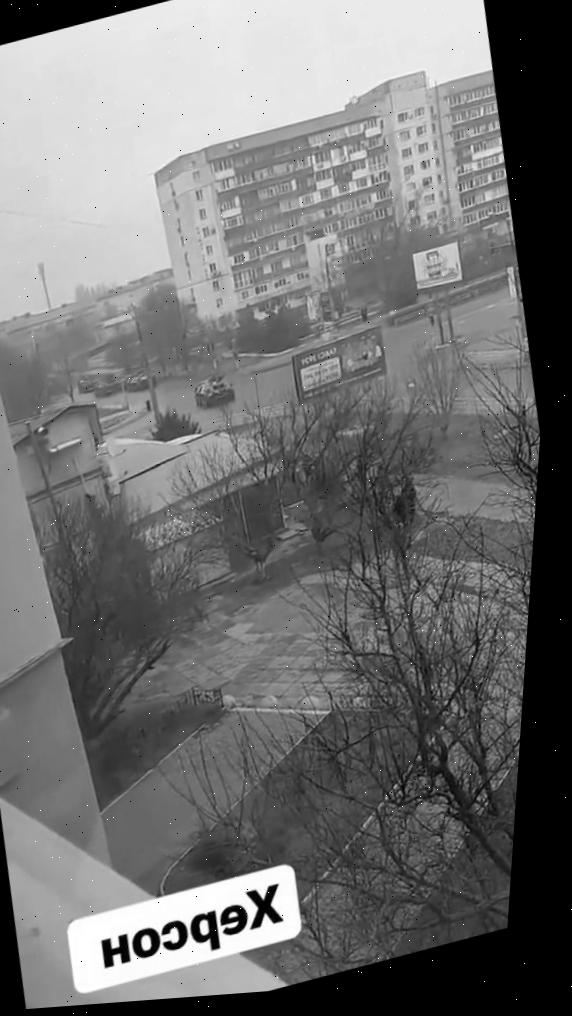tank: (190, 372, 237, 413), (122, 367, 159, 399), (92, 371, 124, 402), (70, 370, 101, 398)
